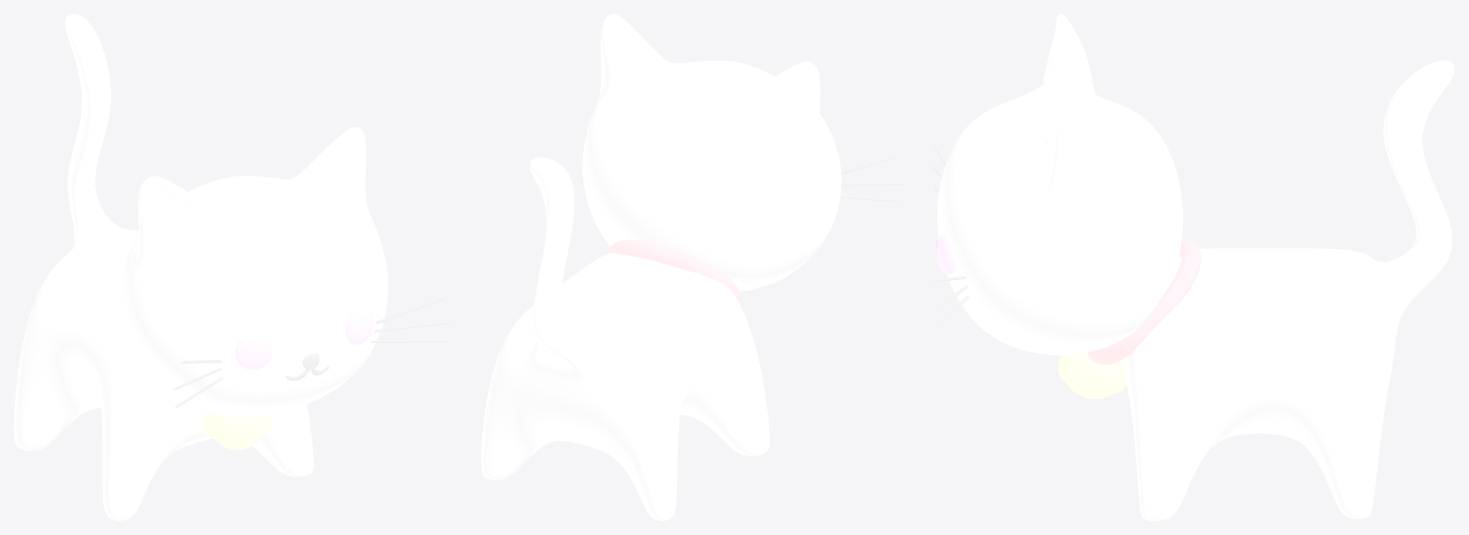
The model's file is asset.gltf.
3 renders of one model, left to right at view 1: azimuth 30°, elevation 25°; view 2: azimuth 150°, elevation 25°; view 3: azimuth 270°, elevation 25°, orthographic. The views are drawn at different scales.
Visible parts, largest first — view 1: 立方体, Cube, 立方体.001, 立方体.006, 立方体.002, 立方体.005; view 2: Cube, 立方体, トーラス, 立方体.005; view 3: Cube, 立方体, トーラス, 立方体.006, 立方体.002, 立方体.005.
Boxes of the visible parts, x1,y1,x2,y2 form: 立方体: [119, 127, 388, 417]; Cube: [14, 14, 313, 520]; 立方体.001: [149, 136, 361, 244]; 立方体.006: [203, 412, 271, 449]; 立方体.002: [235, 308, 373, 369]; 立方体.005: [173, 297, 452, 407]; Cube: [481, 157, 769, 520]; 立方体: [582, 14, 841, 291]; トーラス: [608, 239, 740, 302]; 立方体.005: [840, 155, 903, 201]; Cube: [1123, 60, 1454, 520]; 立方体: [937, 14, 1182, 355]; トーラス: [1087, 239, 1201, 364]; 立方体.006: [1058, 352, 1126, 398]; 立方体.002: [936, 189, 955, 274]; 立方体.005: [932, 142, 969, 331].
Size of the model in its own units: 2.91 by 3.78 by 4.39.
